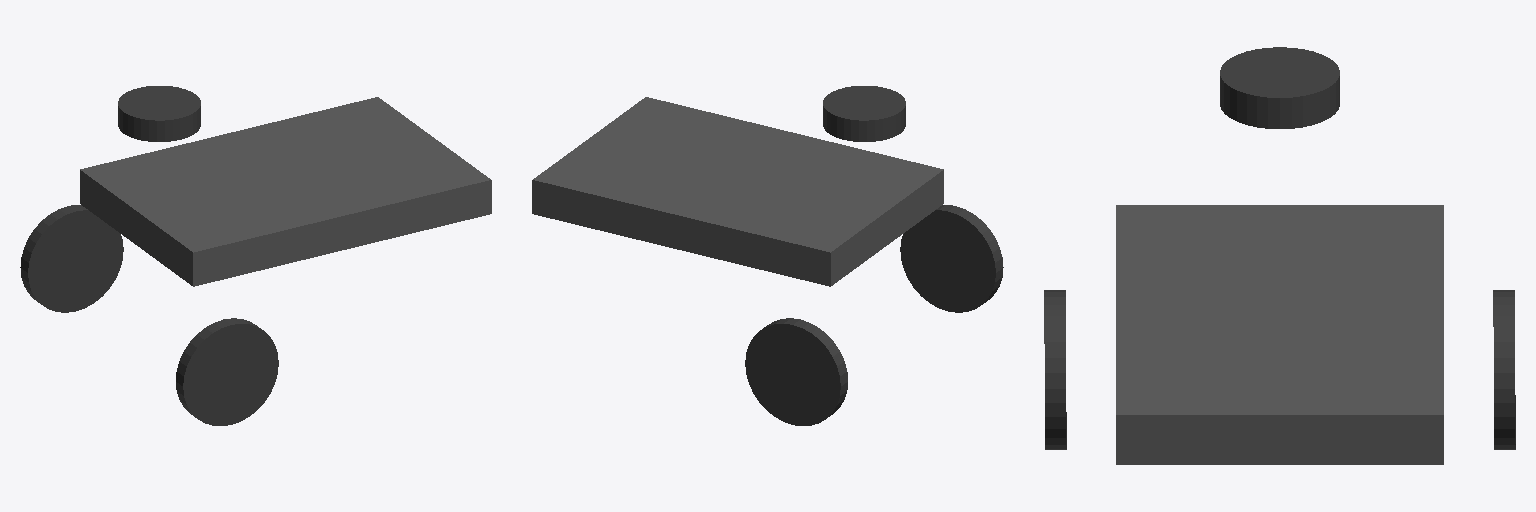
URDF robot description (ackibot_burger):
<?xml version="1.0" ?>
<robot name="ackibot_burger"
  xmlns:xacro="http://ros.org/wiki/xacro">
  <!-- <xacro:include filename="$(find ackibot_description)/urdf/common_properties.urdf"/> -->

  <!-- Init colour -->
  <material name="black">
      <color rgba="0.0 0.0 0.0 1.0"/>
  </material>

  <material name="dark">
    <color rgba="0.3 0.3 0.3 1.0"/>
  </material>

  <material name="light_black">
    <color rgba="0.4 0.4 0.4 1.0"/>
  </material>

  <material name="blue">
    <color rgba="0.0 0.0 0.8 1.0"/>
  </material>

  <material name="green">
    <color rgba="0.0 0.8 0.0 1.0"/>
  </material>

  <material name="grey">
    <color rgba="0.5 0.5 0.5 1.0"/>
  </material>

  <material name="orange">
    <color rgba="1.0 0.4235 0.0392 1.0"/>
  </material>

  <material name="brown">
    <color rgba="0.8706 0.8118 0.7647 1.0"/>
  </material>

  <material name="red">
    <color rgba="0.8 0.0 0.0 1.0"/>
  </material>

  <material name="white">
    <color rgba="1.0 1.0 1.0 1.0"/>
  </material>

  <!-- Origin -->
  <link name="base_footprint"/>

  <!-- Navel aka point on robot belly between wheels i.e. on axis of wheels. -->
  <joint name="base_joint" type="fixed">
    <parent link="base_footprint"/>
    <child link="base_link"/>
    <origin xyz="0.0 0.0 0.18" rpy="0 0 0"/>
  </joint>

  <!-- Body of robot. Origin is middle of quad, realtive to the base_joint. -->
  <link name="base_link">
    <visual>
      <origin xyz="0.2075 0 0.025" rpy="0 0 0"/>
      <geometry>
        <box size="0.455 0.3 0.05"/>
      </geometry>
      <material name="light_black"/>
    </visual>

    <collision>
      <origin xyz="0.2075 0 0.025" rpy="0 0 0"/>
      <geometry>
        <box size="0.455 0.3 0.05"/>
      </geometry>
    </collision>

    <inertial>
      <origin xyz="0 0 0" rpy="0 0 0"/>
      <mass value="8.2573504e-01"/>
      <inertia ixx="2.2124416e-03" ixy="-1.2294101e-05" ixz="3.4938785e-05" iyy="2.1193702e-03" iyz="-5.0120904e-06" izz="2.0064271e-03" />
    </inertial>
  </link>

  <!-- Point in the middle of the wheel, origin relative to the base_joint. -->
  <joint name="wheel_left_joint" type="continuous">
    <parent link="base_link"/>
    <child link="wheel_left_link"/>
    <origin xyz="0.0 0.205 -0.107" rpy="-1.57 0 0"/>
    <axis xyz="0 0 1"/>
  </joint>

  <!-- Wheel. Origin match joint of wheel. -->
  <link name="wheel_left_link">
    <visual>
      <origin xyz="0 0 0" rpy="0 0 0"/>
      <geometry>
        <cylinder length="0.02" radius="0.073"/>
      </geometry>
      <material name="dark"/>
    </visual>

    <collision>
      <origin xyz="0 0 0" rpy="0 0 0"/>
      <geometry>
        <cylinder length="0.02" radius="0.073"/>
      </geometry>
    </collision>

    <inertial>
      <origin xyz="0 0 0" />
      <mass value="2.8498940e-02" />
      <inertia ixx="1.1175580e-05" ixy="-4.2369783e-11" ixz="-5.9381719e-09" iyy="1.1192413e-05" iyz="-1.4400107e-11" izz="2.0712558e-05" />
    </inertial>
  </link>

  <joint name="wheel_right_joint" type="continuous">
    <parent link="base_link"/>
    <child link="wheel_right_link"/>
    <origin xyz="0.0 -0.205 -0.107" rpy="-1.57 0 0"/>
    <axis xyz="0 0 1"/>
  </joint>

  <link name="wheel_right_link">
    <visual>
      <origin xyz="0 0 0" rpy="0 0 0"/>
      <geometry>
        <cylinder length="0.02" radius="0.073"/>
      </geometry>
      <material name="dark"/>
    </visual>

    <collision>
      <origin xyz="0 0 0" rpy="0 0 0"/>
      <geometry>
        <cylinder length="0.02" radius="0.073"/>
      </geometry>
    </collision>

    <inertial>
      <origin xyz="0 0 0" />
      <mass value="2.8498940e-02" />
      <inertia ixx="1.1175580e-05" ixy="-4.2369783e-11" ixz="-5.9381719e-09" iyy="1.1192413e-05" iyz="-1.4400107e-11" izz="2.0712558e-05" />
    </inertial>
  </link>

  <joint name="caster_back_joint" type="fixed">
    <parent link="base_link"/>
    <child link="caster_back_link"/>
    <origin xyz="-0.081 0 -0.004" rpy="-1.57 0 0"/>
  </joint>

  <link name="caster_back_link">
    <collision>
      <origin xyz="0 0.001 0" rpy="0 0 0"/>
      <geometry>
        <box size="0.030 0.009 0.020"/>
      </geometry>
    </collision>

    <inertial>
      <origin xyz="0 0 0" />
      <mass value="0.005" />
      <inertia ixx="0.001" ixy="0.0" ixz="0.0" iyy="0.001" iyz="0.0" izz="0.001" />
    </inertial>
  </link>

  <joint name="imu_joint" type="fixed">
    <parent link="base_link"/>
    <child link="imu_link"/>
    <origin xyz="-0.032 0 0.068" rpy="0 0 0"/>
  </joint>

  <link name="imu_link"/>

  <joint name="scan_joint" type="fixed">
    <parent link="base_link"/>
    <child link="base_scan"/>
    <origin xyz="0 0 0.19" rpy="0 0 0"/>
  </joint>

  <link name="base_scan">
    <visual>
      <origin xyz="0.015 0 -0.0065" rpy="0 0 0"/>
      <geometry>
        <cylinder length="0.0315" radius="0.055"/>
      </geometry>
      <material name="dark"/>
    </visual>

    <collision>
      <origin xyz="0.015 0 -0.0065" rpy="0 0 0"/>
      <geometry>
        <cylinder length="0.0315" radius="0.055"/>
      </geometry>
    </collision>

    <inertial>
      <mass value="0.114" />
      <origin xyz="0 0 0" />
      <inertia ixx="0.001" ixy="0.0" ixz="0.0" iyy="0.001" iyz="0.0" izz="0.001" />
    </inertial>
  </link>

</robot>

--- Facts derived from the render (not from the file) ---
The picture shows the robot from 3 angles, left to right: view 1: azimuth 30°, elevation 25°; view 2: azimuth 150°, elevation 25°; view 3: azimuth 270°, elevation 25°; orthographic projection.
Robot: ackibot_burger — 7 links, 6 joints (2 continuous, 4 fixed); root link base_footprint; default pose: all joints at 0.
Links seen in each view (by area): view 1: base_link, wheel_right_link, wheel_left_link, base_scan; view 2: base_link, wheel_left_link, wheel_right_link, base_scan; view 3: base_link, base_scan, wheel_left_link, wheel_right_link.
Boxes of the visible links, left/top/right/bottom form: base_link: left=80, top=97, right=491, bottom=286; wheel_right_link: left=176, top=318, right=278, bottom=425; wheel_left_link: left=20, top=205, right=123, bottom=312; base_scan: left=118, top=86, right=200, bottom=141; base_link: left=532, top=97, right=943, bottom=286; wheel_left_link: left=745, top=318, right=847, bottom=425; wheel_right_link: left=900, top=205, right=1003, bottom=312; base_scan: left=823, top=86, right=905, bottom=141; base_link: left=1116, top=205, right=1443, bottom=464; base_scan: left=1220, top=47, right=1339, bottom=128; wheel_left_link: left=1493, top=290, right=1515, bottom=449; wheel_right_link: left=1044, top=290, right=1066, bottom=449.
Bounding box of the posed robot: 0.508 × 0.4301 × 0.3793 m (x, y, z).
Geometry: primitives only (box / cylinder / sphere), no mesh files.